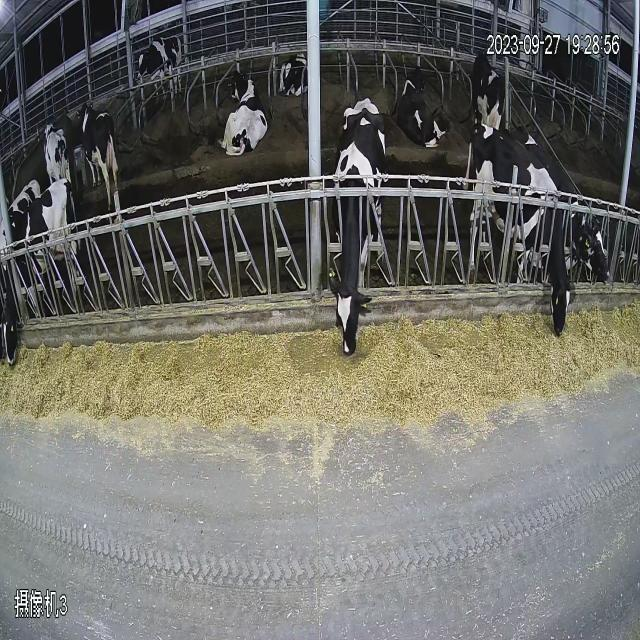feeding: (470, 118, 574, 370), (326, 89, 388, 401), (0, 194, 62, 430), (572, 171, 626, 344)
lying down: (220, 64, 272, 186), (392, 62, 445, 168), (278, 37, 315, 124)
standing: (74, 86, 125, 199), (132, 24, 192, 110), (464, 47, 508, 144), (36, 103, 76, 195)
